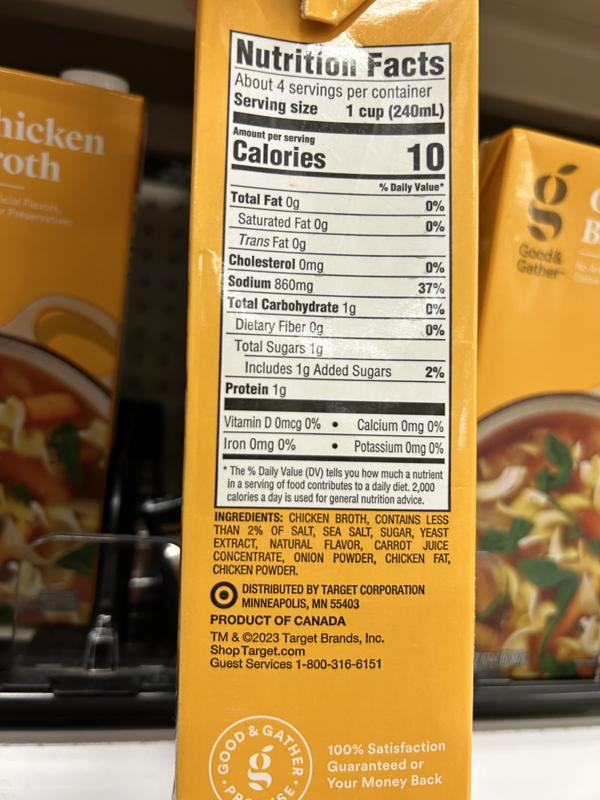ingredients: (211, 512, 452, 577)
